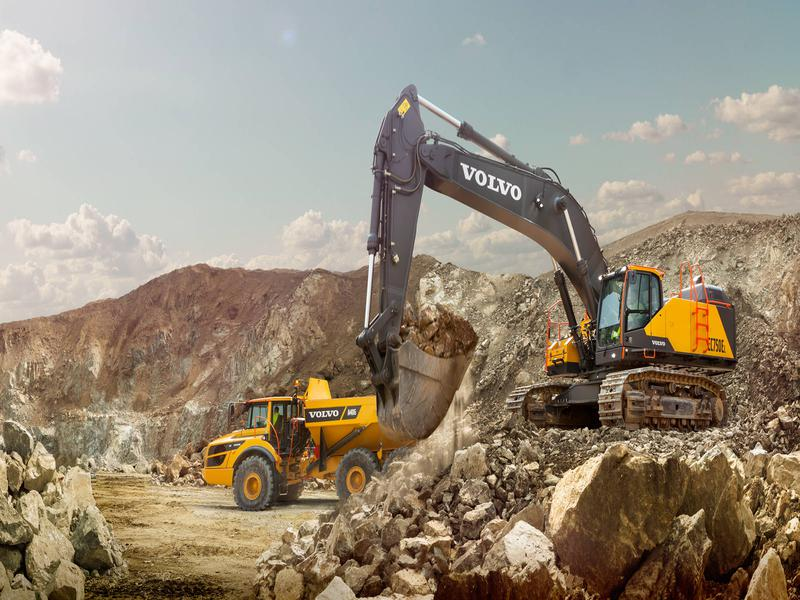shovel: (353, 77, 748, 447)
